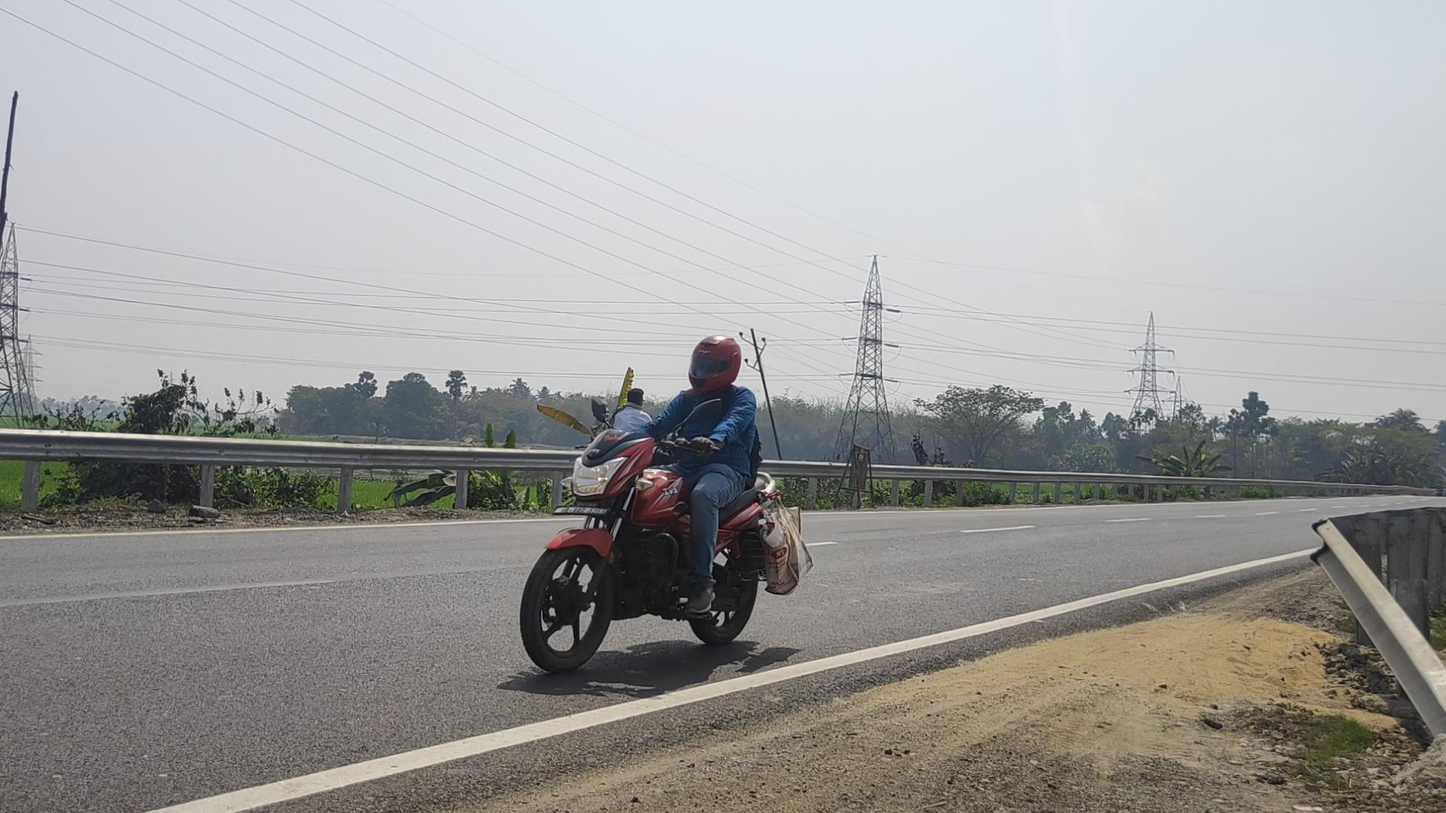bike: (520, 336, 813, 674)
